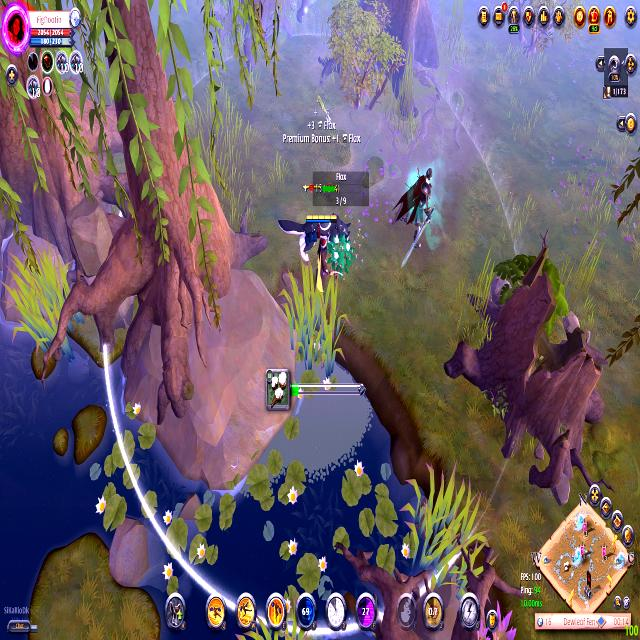hide: (326, 230, 358, 292)
ore: (388, 146, 446, 268)
red: (308, 214, 340, 287)
